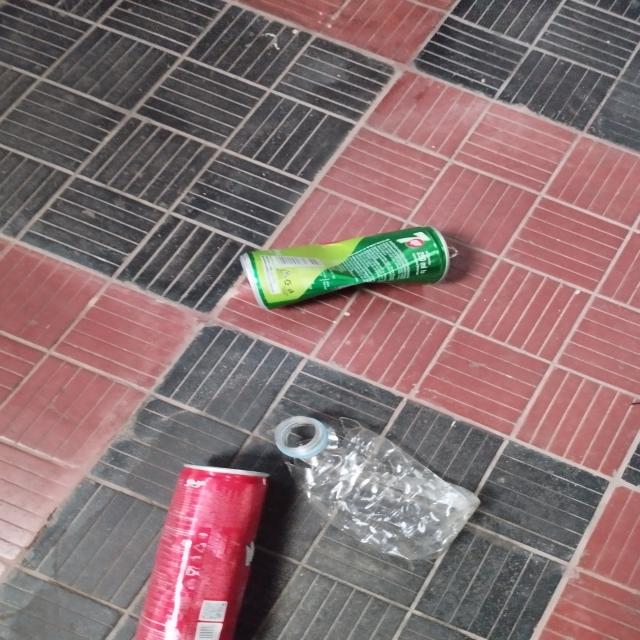aluminum: (126, 461, 270, 640), (232, 225, 458, 308)
plastic: (274, 407, 482, 565)
